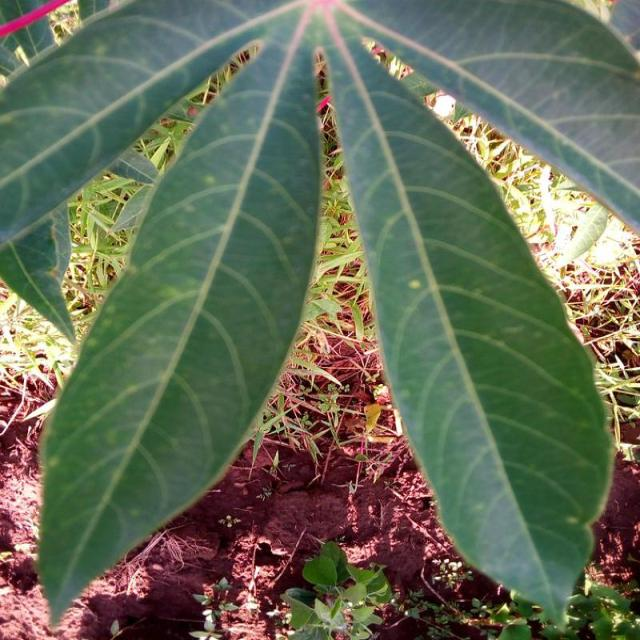cassava leaf: (2, 1, 637, 633), (322, 22, 618, 630), (34, 11, 323, 628)
